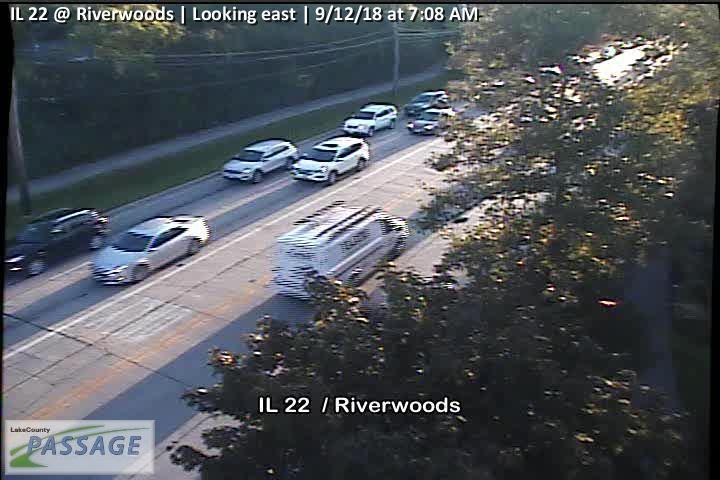SUV: (2, 206, 111, 276), (289, 134, 370, 185), (221, 139, 299, 184), (341, 102, 399, 136), (404, 90, 449, 116)
Sedan: (88, 215, 210, 285), (407, 106, 456, 135)
Truck: (272, 200, 409, 300)
